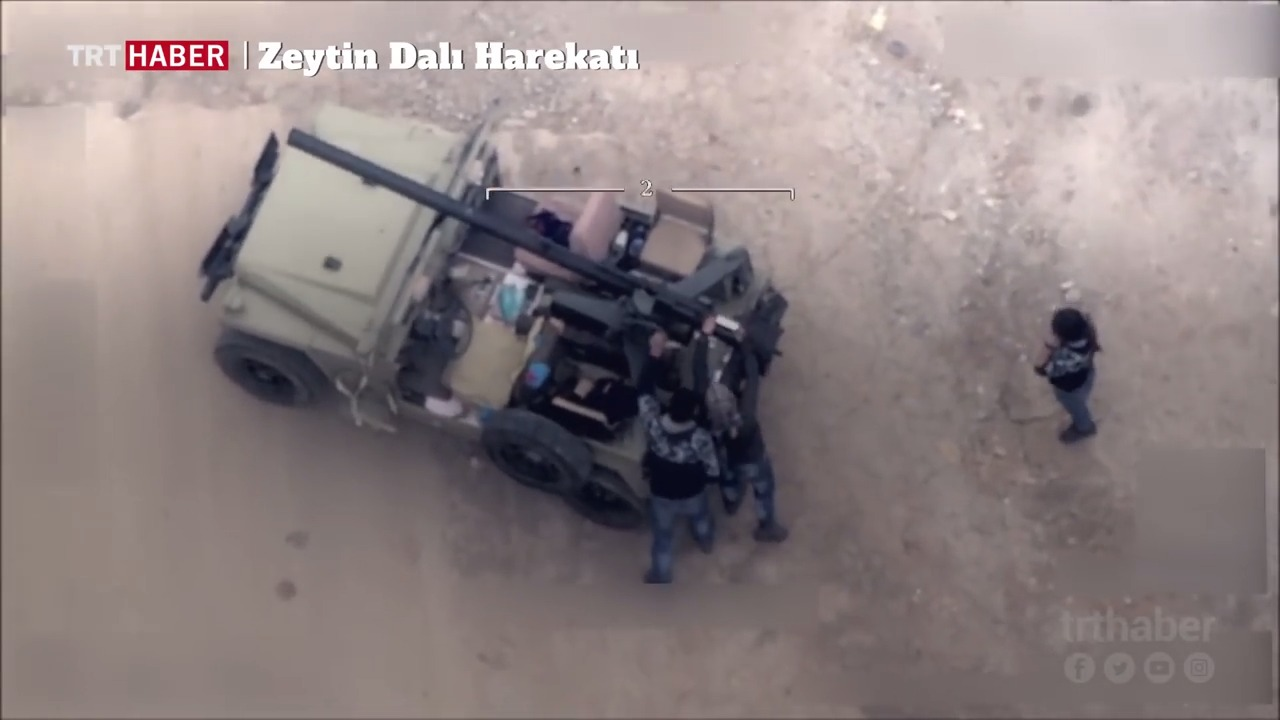arac: (146, 82, 788, 507)
insan: (1026, 287, 1141, 472), (622, 382, 715, 598), (715, 338, 793, 582)
